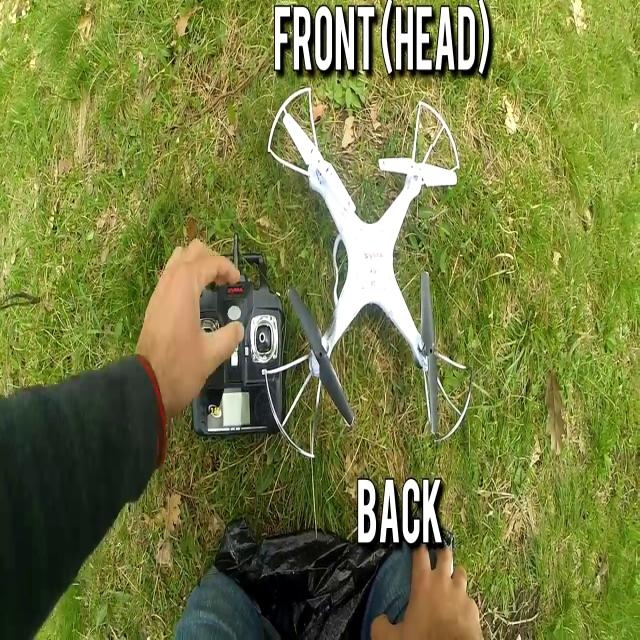drones: (254, 83, 477, 468)
